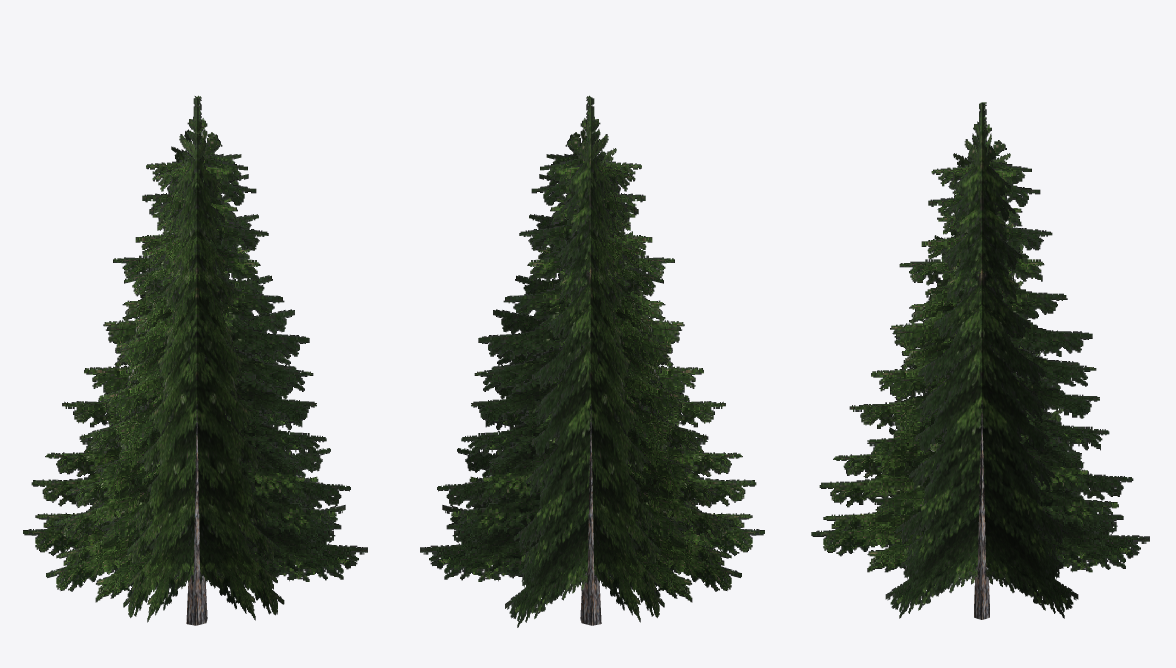
File: small_tree.gltf
3 views of the same model, side by side, from view 1: azimuth 30°, elevation 25°; view 2: azimuth 150°, elevation 25°; view 3: azimuth 270°, elevation 25° (orthographic). The views are drawn at different scales.
Parts seen in each view (by area): view 1: leaf (×4), cone; view 2: leaf (×4), cone; view 3: leaf (×3), cone.
Boxes of the visible parts, left/top/right/bottom form: leaf (×4): left=23, top=95, right=367, bottom=622; cone: left=186, top=404, right=207, bottom=625; leaf (×4): left=420, top=95, right=764, bottom=627; cone: left=580, top=404, right=601, bottom=625; leaf (×3): left=811, top=102, right=1149, bottom=618; cone: left=974, top=400, right=989, bottom=619.
Bounding box in the file's own units: 2.75 × 4.44 × 2.75.
Materials: 2 (2 with a texture image).
